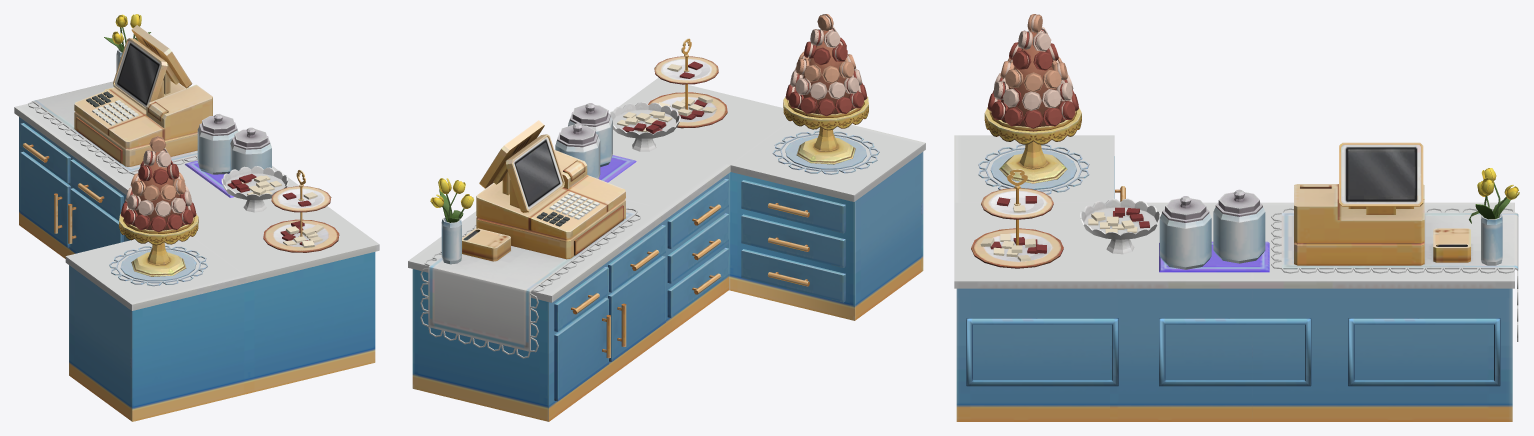
Rendered from my_chocolatecafe_01_p_bar_03.glb.
The picture shows the model from 3 angles, left to right: view 1: azimuth 30°, elevation 25°; view 2: azimuth 150°, elevation 25°; view 3: azimuth 270°, elevation 25°; orthographic projection. The views are drawn at different scales.
Visible parts, largest first — view 1: my_chocolatecafe_01_p_bar_03; view 2: my_chocolatecafe_01_p_bar_03; view 3: my_chocolatecafe_01_p_bar_03.
Part boxes in pixels (left/top/right/bottom): my_chocolatecafe_01_p_bar_03: left=14, top=14, right=379, bottom=421; my_chocolatecafe_01_p_bar_03: left=408, top=14, right=925, bottom=421; my_chocolatecafe_01_p_bar_03: left=954, top=14, right=1519, bottom=421.
Bounding box in the file's own units: 0.0099 × 0.00943 × 0.0162.
Materials: 2 (2 with a texture image).
